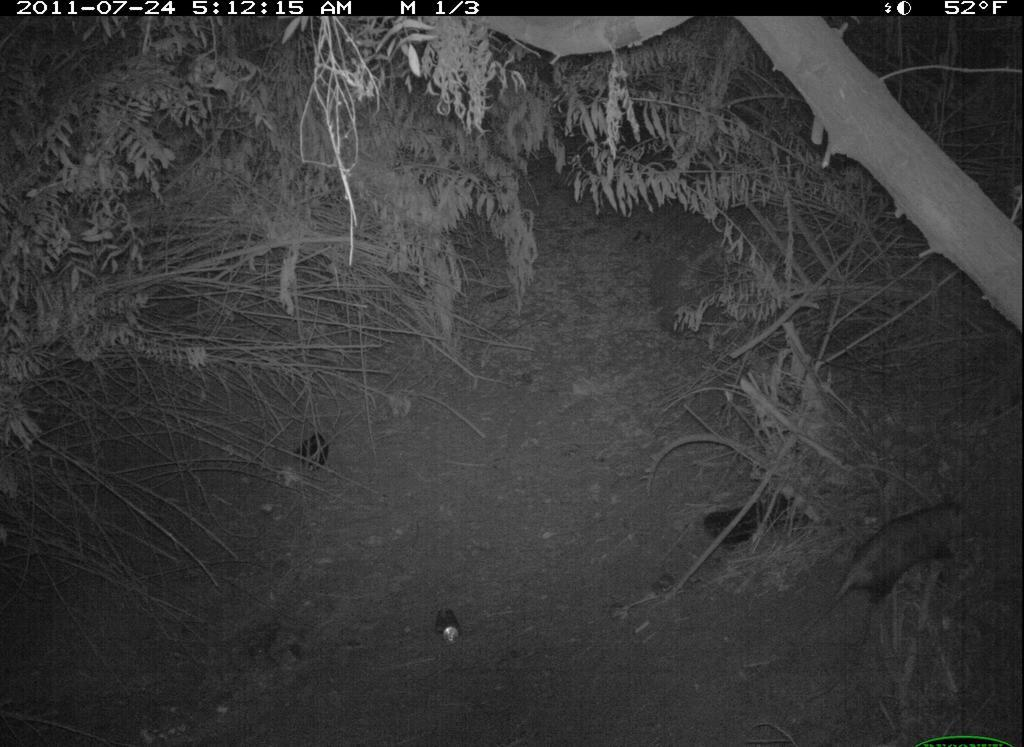opossum: (797, 493, 977, 630)
